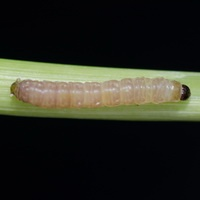insect: (10, 77, 190, 107)
